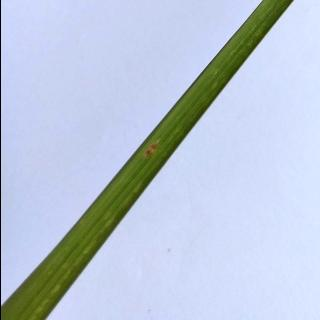Blast: (137, 134, 166, 164)
